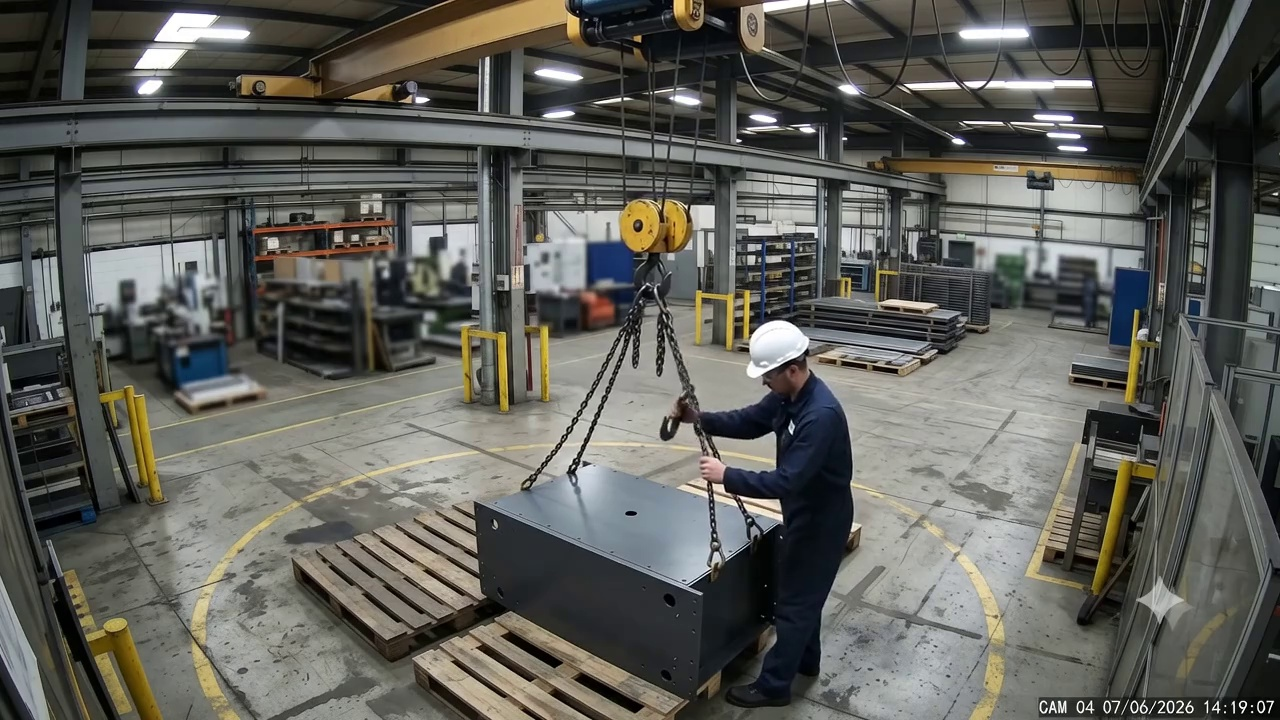person: (666, 319, 857, 710)
